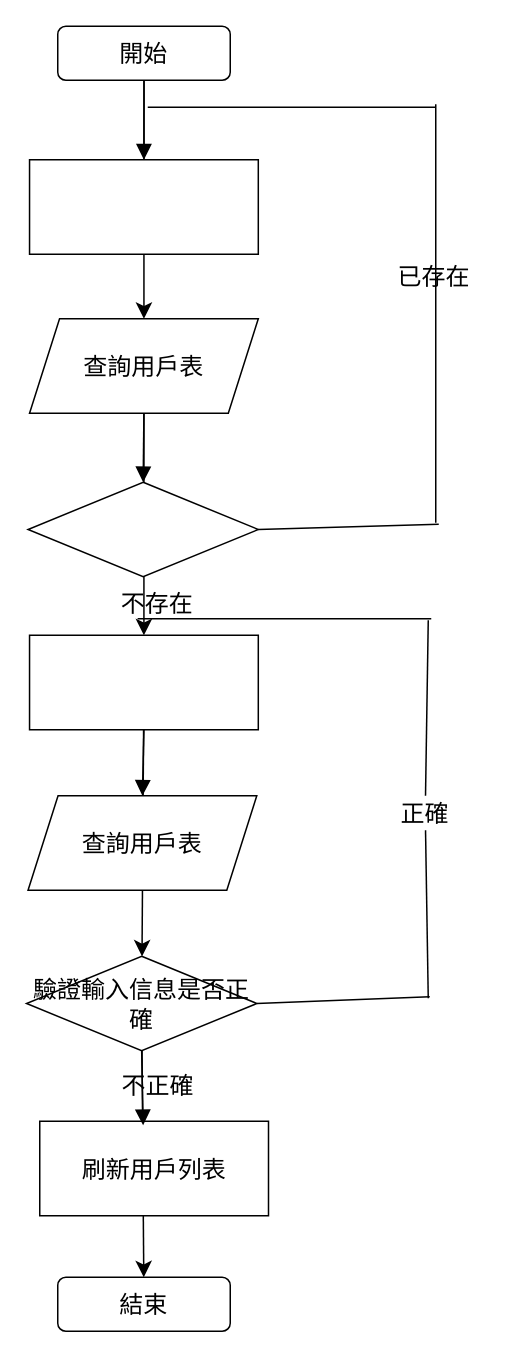
Image size: 506x1358. Some labels were removed from this diagram. Each missing label, with the centre of its shape:
判斷已有該用戶/姓名: point 142,529
查詢新用戶名/姓名: point 143,206
添加用戶名稱、真實姓名、密碼、確認密碼、用戶類型: point 143,682
